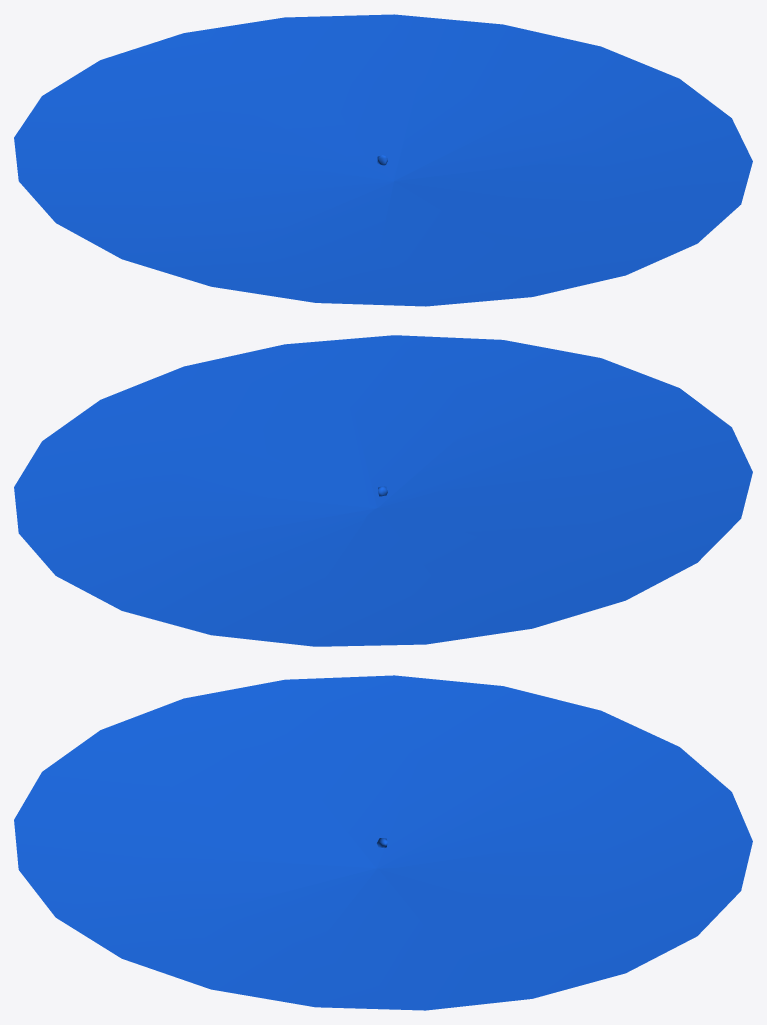
Rendered from thecosmicgarden.glb.
3 views of the same model, one above another, from view 1: azimuth 30°, elevation 25°; view 2: azimuth 150°, elevation 25°; view 3: azimuth 270°, elevation 25° (orthographic).
Visible parts, largest first — view 1: Plant; view 2: Plant; view 3: Plant.
Boxes of the visible parts, box(x1,y1,x2,y2) form: Plant: box(14, 14, 752, 306); Plant: box(14, 335, 752, 646); Plant: box(14, 675, 752, 1010).
Size of what is drawn, in the model's own units: 1.1 by 0.078 by 1.1.
